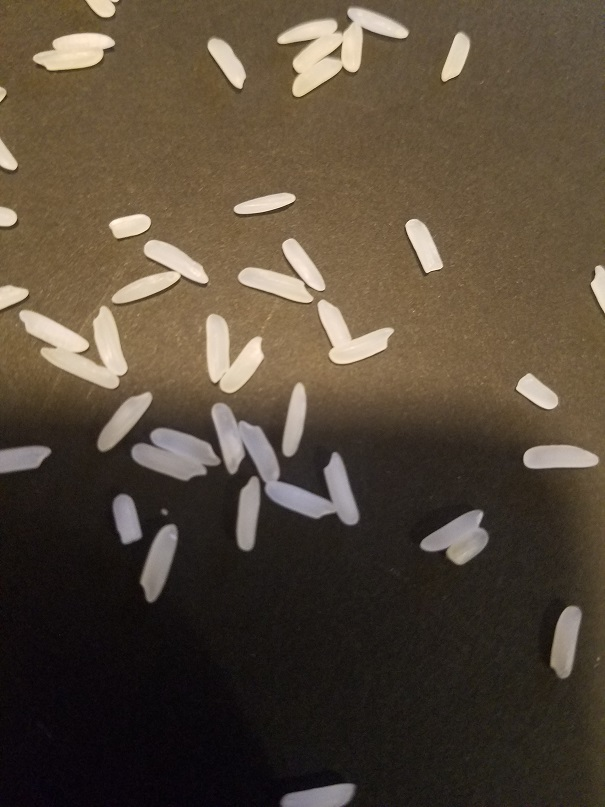egg: (92, 386, 156, 453), (138, 233, 214, 288), (34, 345, 124, 390), (11, 305, 95, 353), (136, 521, 181, 605), (261, 476, 340, 523), (214, 331, 273, 393), (127, 437, 210, 481), (317, 449, 363, 527), (416, 505, 486, 555), (146, 422, 223, 467), (233, 264, 314, 306), (235, 415, 284, 484), (207, 401, 250, 477), (324, 326, 403, 366), (89, 301, 130, 378), (275, 379, 314, 458), (399, 212, 446, 277), (107, 269, 186, 305), (279, 237, 328, 295), (346, 1, 412, 44), (205, 33, 249, 95), (549, 601, 583, 681), (289, 26, 345, 72), (520, 442, 605, 471), (29, 44, 107, 75), (274, 10, 339, 47), (278, 777, 358, 807), (290, 54, 345, 97), (511, 369, 564, 412), (229, 187, 297, 219), (205, 310, 234, 384), (439, 28, 475, 86), (235, 473, 261, 553), (444, 523, 489, 569), (108, 489, 144, 545), (316, 298, 355, 348), (1, 442, 55, 477), (105, 210, 152, 244), (340, 19, 366, 75), (53, 31, 118, 48), (585, 262, 605, 316), (1, 276, 31, 311), (1, 131, 23, 177), (86, 1, 117, 23), (1, 205, 20, 233), (1, 81, 8, 108)
